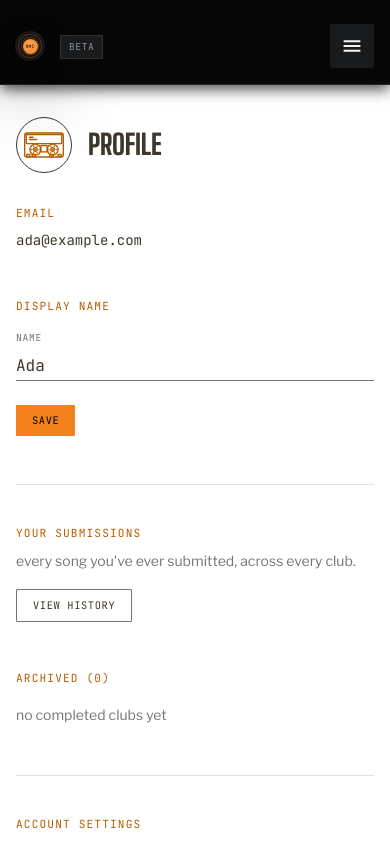
ProfileRoute › save: a failure shows a calm retryable error
Expected: the heading "archived (0)" is shown, [16,671,110,685]
Replace the text in the field labelled "name" with "Taken" at point(195, 366), box [16,352,374,381]
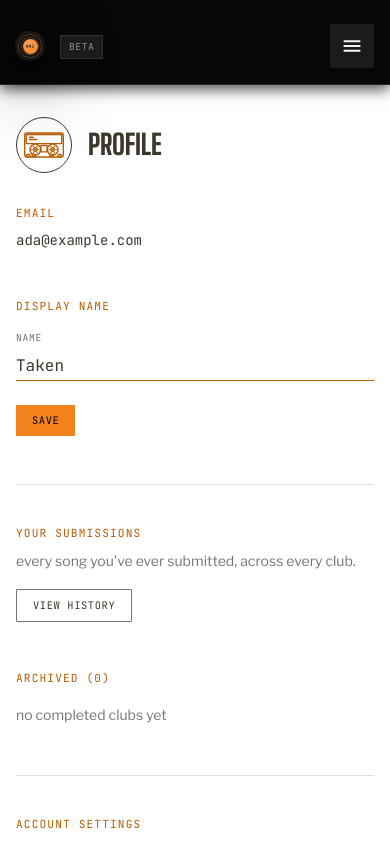
Click the button "save".
click(46, 420)  # box [16,405,75,436]
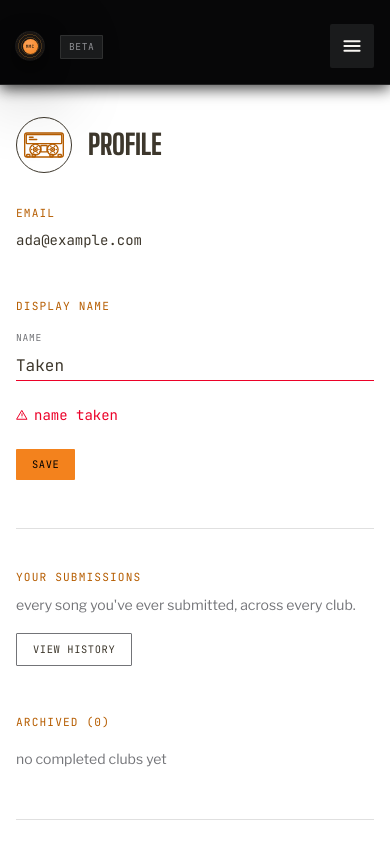
Expected: the text "name taken" is shown, [16,406,118,424]
